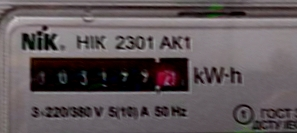0: (32, 66, 46, 86), (55, 65, 67, 85)
1: (96, 62, 107, 82)
3: (76, 67, 87, 87)
6: (160, 73, 171, 89)
9: (137, 66, 149, 85), (117, 64, 128, 83)
screen: (19, 36, 197, 114)
